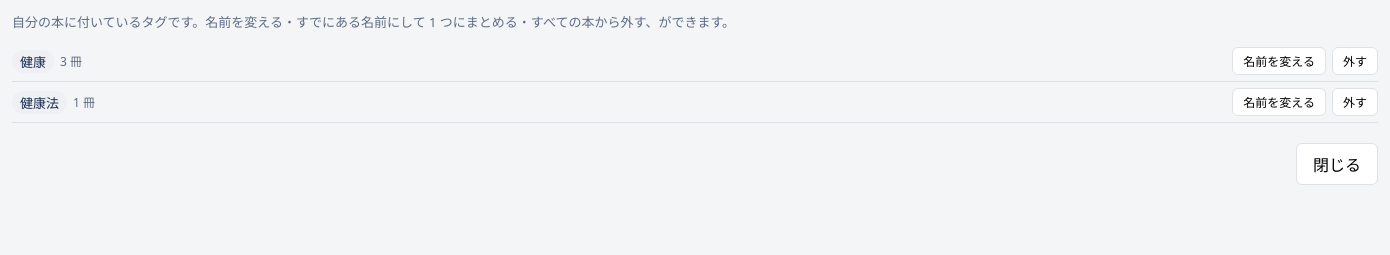
Scenario: TagsPanel（タグの管理） › 断られたら理由を出し、ログインが切れていたら unauthorized を伝える
Click the button "名前を変える" in the row of "健康法" at (1279, 102), box [1232, 88, 1326, 116]
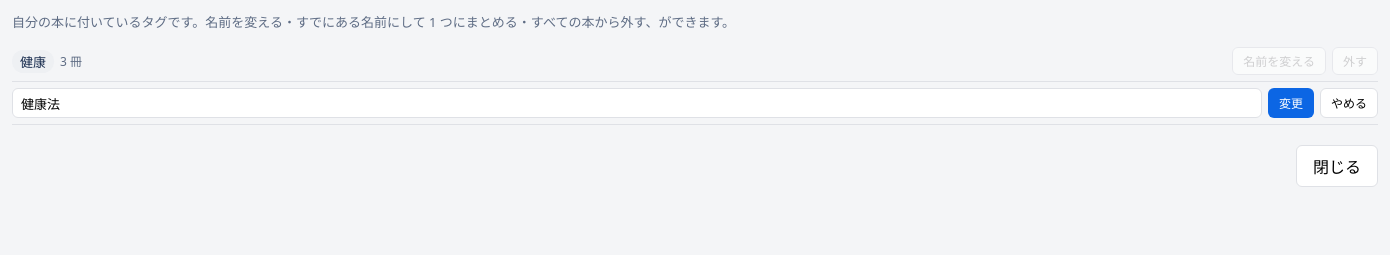
Clear the field with class "rename-input" at (637, 103), box [12, 88, 1262, 118]
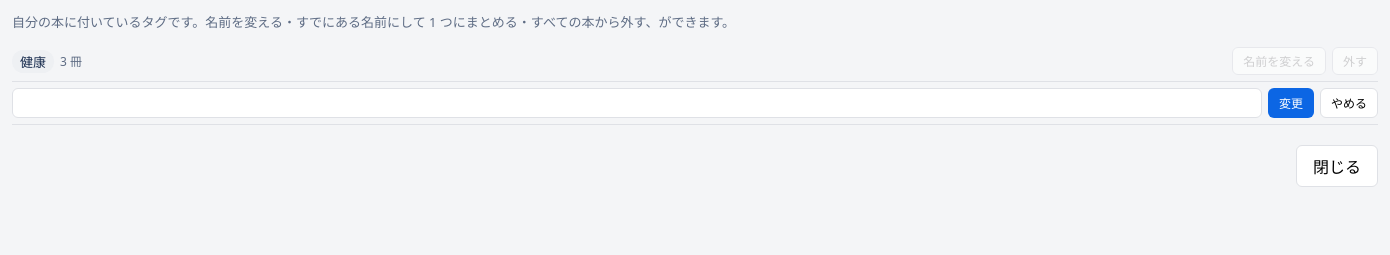
Submit the form with class "rename-form", box [12, 88, 1378, 118]
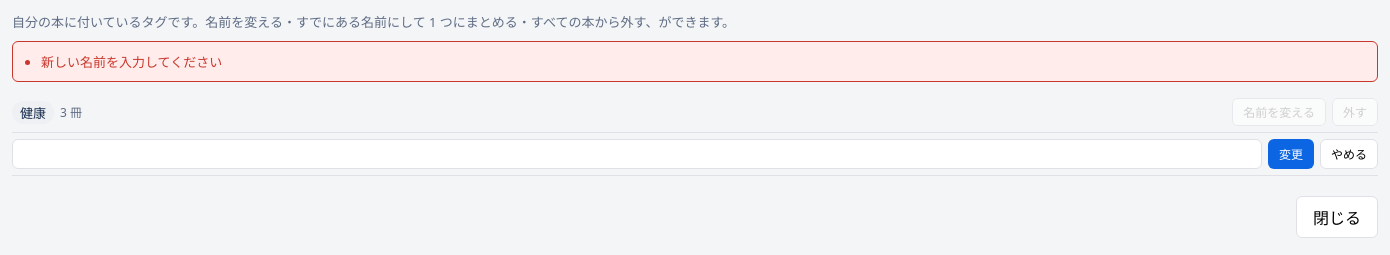
Now the message "新しい名前を入力してください" is shown, box [12, 41, 1378, 82]
